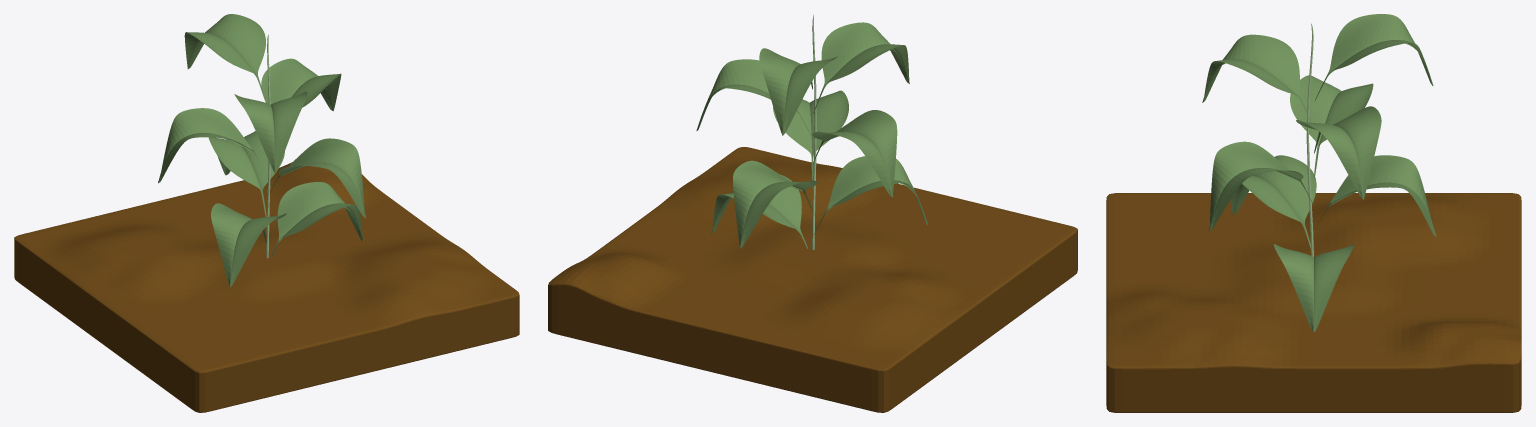
The model's file is CornPlantAdult.fbx.
3 renders of one model, left to right at view 1: azimuth 30°, elevation 25°; view 2: azimuth 150°, elevation 25°; view 3: azimuth 270°, elevation 25°, orthographic. The views are drawn at different scales.
Parts seen in each view (by area): view 1: Cube; view 2: Cube; view 3: Cube.
Part boxes in pixels (x1,y1,x2,y2): Cube: (14, 14, 519, 412); Cube: (548, 14, 1077, 412); Cube: (1106, 14, 1521, 412).
Size of the model in its own units: 288 by 232 by 288.
